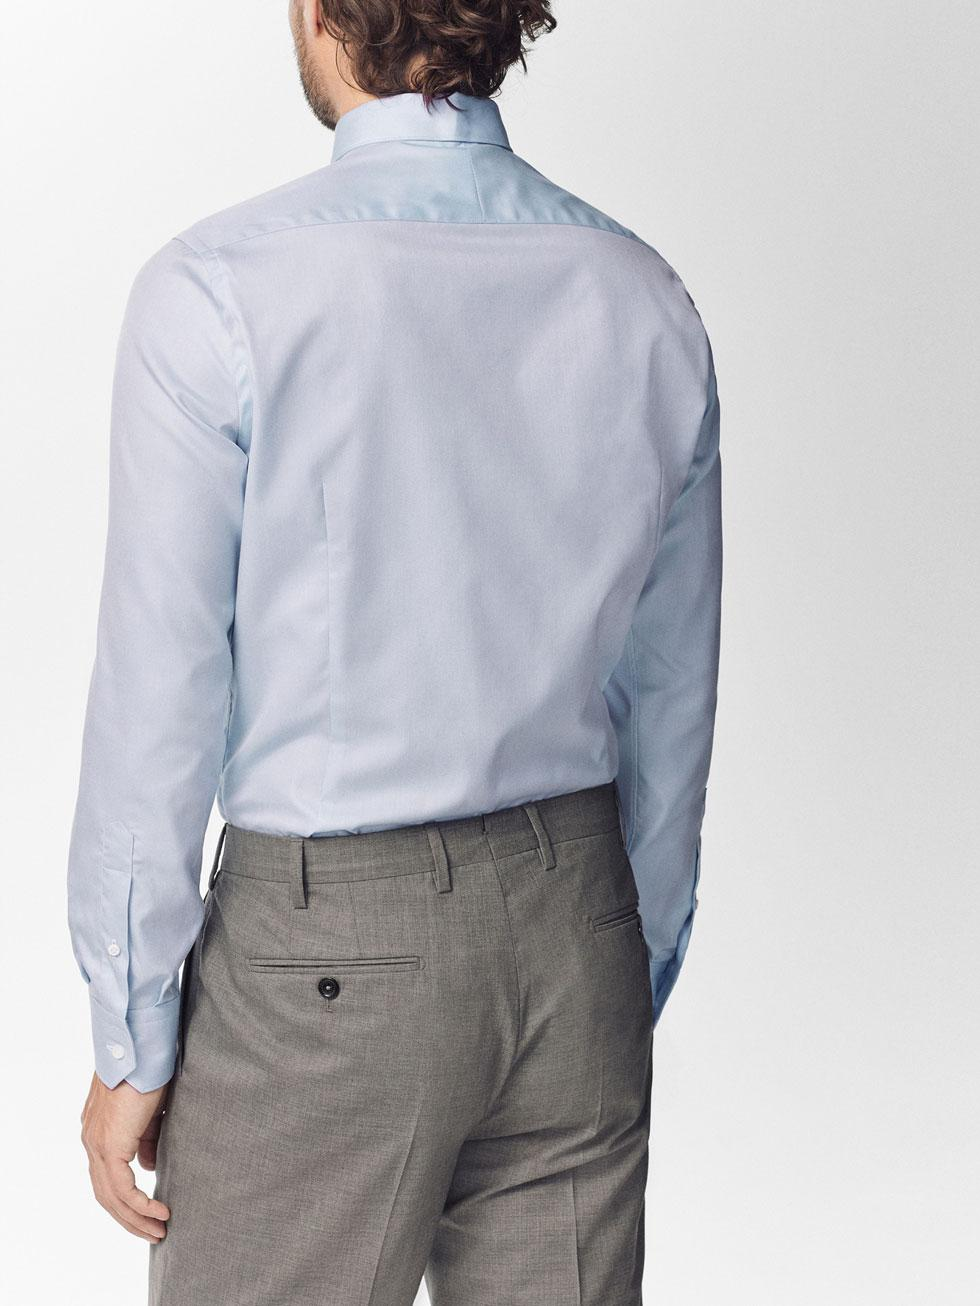teeshirt: (97, 115, 731, 885)
